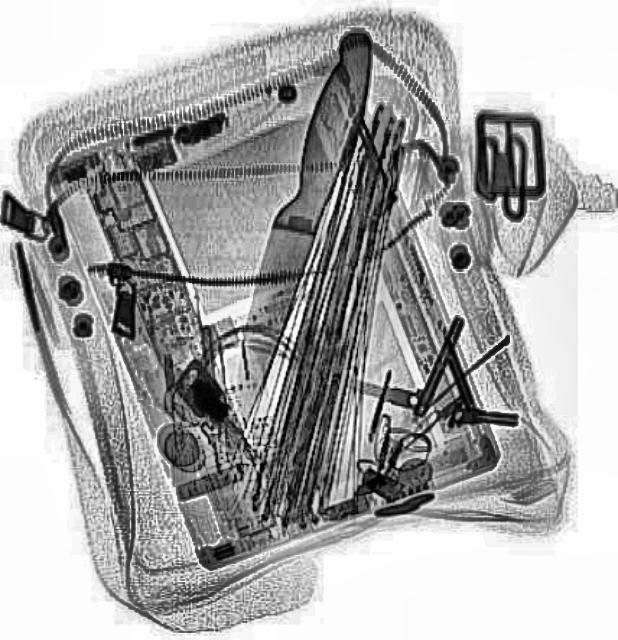Knife: (215, 19, 383, 431)
